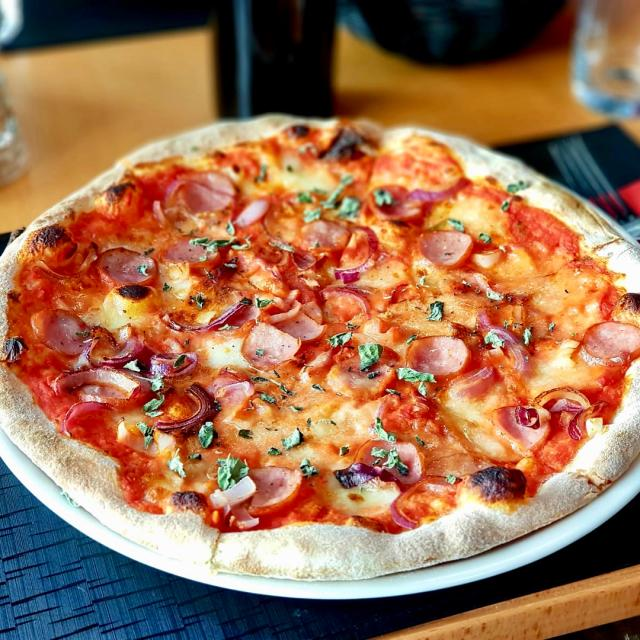basil: (184, 226, 253, 263), (321, 172, 363, 221), (364, 441, 412, 479), (395, 362, 440, 398), (213, 452, 252, 492), (250, 365, 295, 396), (355, 334, 384, 382), (137, 374, 166, 421), (162, 449, 204, 480), (324, 320, 362, 348), (196, 416, 222, 451), (372, 411, 398, 444), (136, 417, 158, 452), (421, 296, 448, 323), (369, 186, 395, 210), (297, 454, 320, 481), (279, 426, 303, 450), (482, 330, 507, 350), (251, 293, 278, 311), (299, 206, 323, 225), (446, 213, 466, 234), (507, 177, 529, 196), (519, 323, 535, 349), (190, 288, 207, 312), (290, 189, 314, 204), (170, 350, 188, 370), (134, 260, 151, 280), (411, 431, 428, 448), (222, 218, 236, 238), (496, 196, 512, 213), (259, 391, 276, 407), (334, 445, 353, 459), (444, 468, 458, 486), (404, 332, 419, 348), (300, 142, 316, 156), (266, 444, 282, 457), (478, 232, 494, 245), (257, 162, 266, 183), (545, 321, 558, 335), (254, 348, 269, 358)
pizza: (0, 116, 640, 580)
